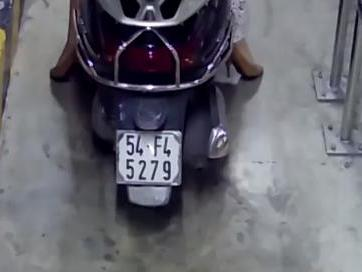num_plate: (118, 131, 179, 185)
